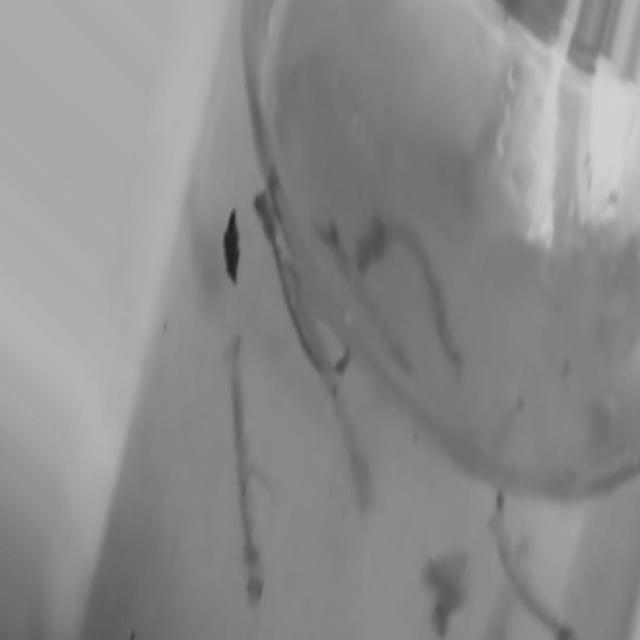larvas: (347, 186, 506, 393), (317, 228, 436, 388), (484, 507, 575, 640), (252, 196, 320, 363), (226, 341, 260, 601), (330, 372, 379, 502), (424, 548, 470, 631)
